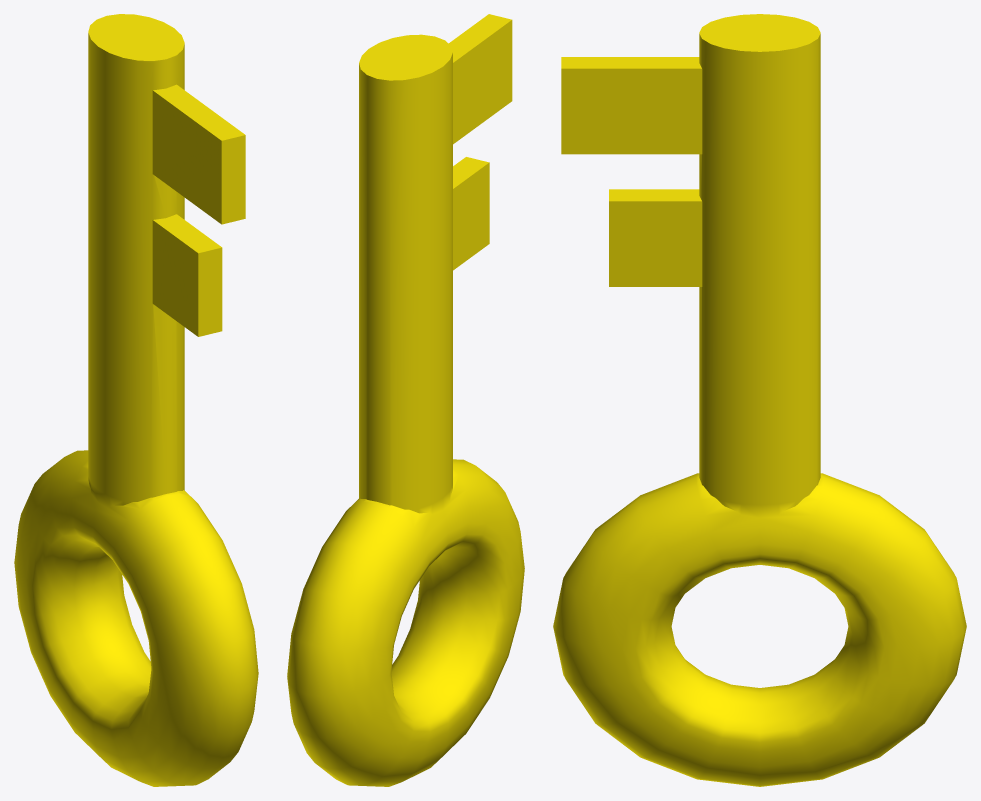
File: yaoshi.fbx
3 renders of one model, left to right at view 1: azimuth 30°, elevation 25°; view 2: azimuth 150°, elevation 25°; view 3: azimuth 270°, elevation 25°, orthographic. The views are drawn at different scales.
Visible parts, largest first — view 1: pTorus1; view 2: pTorus1; view 3: pTorus1.
Boxes of the visible parts, x1=… form: pTorus1: x1=14, y1=14, x2=258, y2=786; pTorus1: x1=287, y1=14, x2=524, y2=786; pTorus1: x1=553, y1=14, x2=966, y2=786.
Bounding box in the file's own units: 0.25 × 1 × 2.
